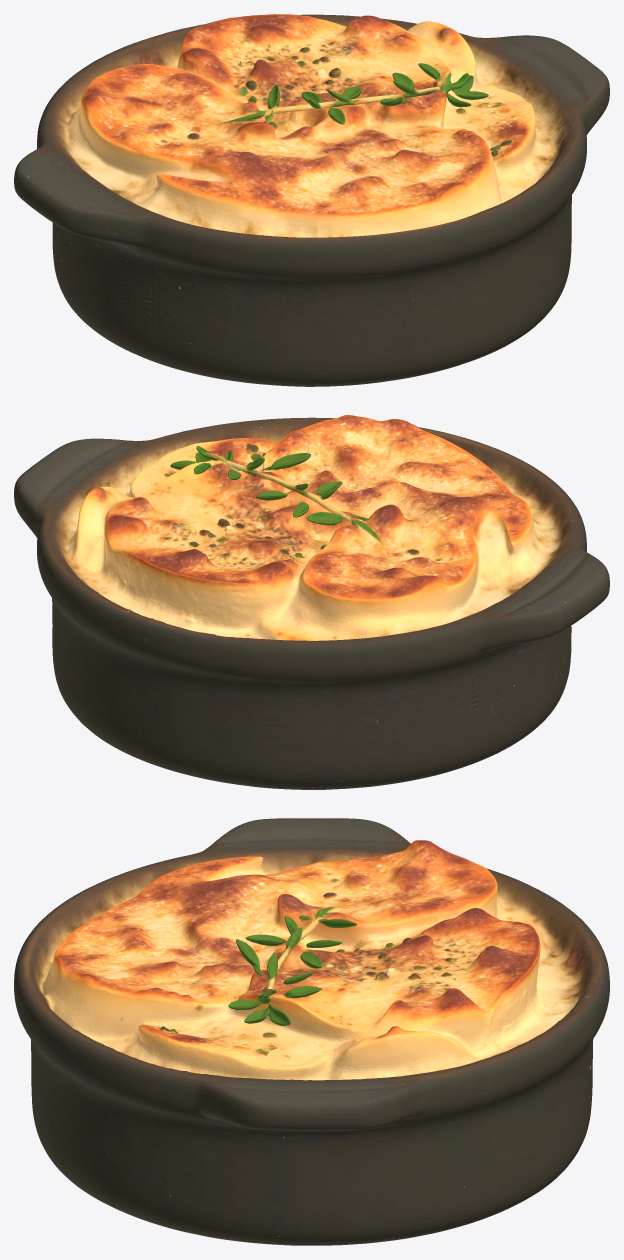
The model's file is graten3.glb.
3 renders of one model, top to bottom at view 1: azimuth 30°, elevation 25°; view 2: azimuth 150°, elevation 25°; view 3: azimuth 270°, elevation 25°, orthographic. The views are drawn at different scales.
Visible parts, largest first — view 1: tripo_node_b2c8e47b-a455-442f-bec9-3994fc94b8f0; view 2: tripo_node_b2c8e47b-a455-442f-bec9-3994fc94b8f0; view 3: tripo_node_b2c8e47b-a455-442f-bec9-3994fc94b8f0.
Part boxes in pixels (x1,y1,x2,y2): tripo_node_b2c8e47b-a455-442f-bec9-3994fc94b8f0: (14,14,609,386); tripo_node_b2c8e47b-a455-442f-bec9-3994fc94b8f0: (14,415,609,789); tripo_node_b2c8e47b-a455-442f-bec9-3994fc94b8f0: (14,818,609,1245).
Bounding box in the file's own units: 1 × 0.3525 × 0.8639.
Materials: 1 (1 with a texture image).
